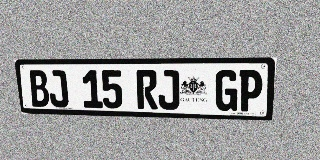1: (81, 70, 103, 108)
5: (101, 70, 123, 109)
B: (28, 70, 50, 107)
G: (215, 70, 239, 111)
J: (158, 70, 179, 110), (47, 70, 69, 107)
P: (238, 70, 263, 112)
R: (136, 70, 158, 109)
